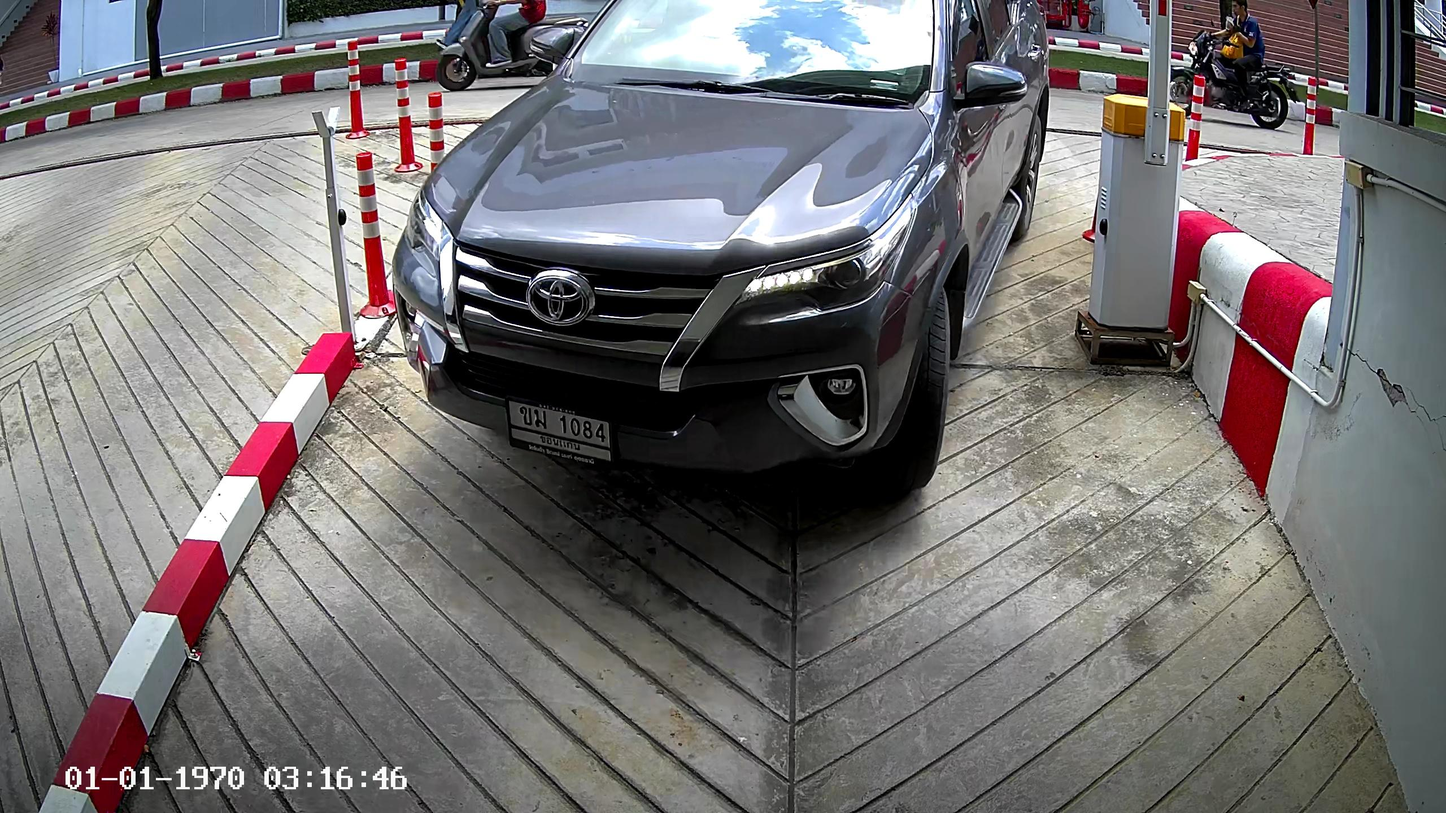car: (397, 2, 1049, 499)
license-plate: (503, 392, 617, 472)
